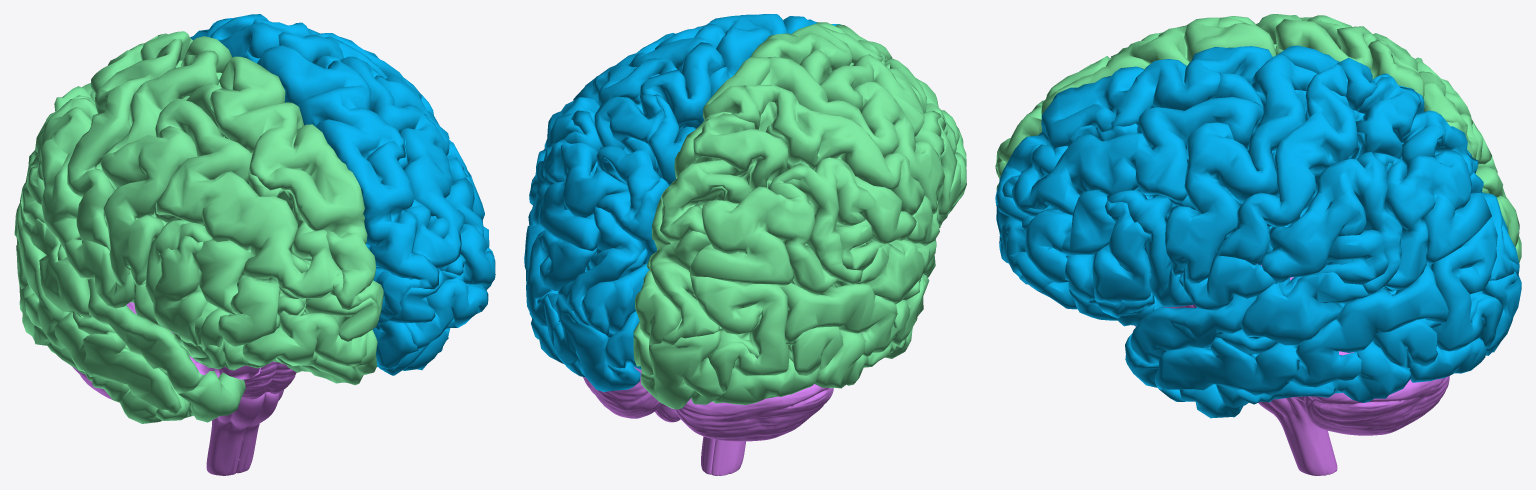
The model's file is brain_realistic.glb.
3 views of the same model, side by side, from view 1: azimuth 30°, elevation 25°; view 2: azimuth 150°, elevation 25°; view 3: azimuth 270°, elevation 25° (orthographic). The views are drawn at different scales.
Visible parts, largest first — view 1: Middle frontal gyrus_R, Superior frontal gyrus_R, Superior frontal gyrus_L, Precentral gyrus_R, Middle frontal gyrus_L, Middle temporal gyrus_R, Superior temporal gyrus (Lateral part)_R, Postcentral gyrus_R, Supramarginal gyrus_R, Orbital gyri (Frontomarginal gyrus and sulcus*)_R, Triangular part of inferior frontal gyrus_R, Inferior frontal sulcus_R (+28 smaller); view 2: Angular gyrus_R, Superior parietal lobule_R, Postcentral gyrus_R, Supramarginal gyrus_R, Lateral occipital gyrus (Middle occipital gyrus*)_R, Angular gyrus_L, Precentral gyrus_R, Middle temporal gyrus_R, Superior parietal lobule_L, Cerebellum_R, Occipital pole_R, Middle frontal gyrus_R (+31 smaller); view 3: Middle frontal gyrus_L, Precentral gyrus_L, Middle temporal gyrus_L, Superior frontal gyrus_L, Superior temporal gyrus (Lateral part)_L, Postcentral gyrus_L, Supramarginal gyrus_L, Angular gyrus_L, Inferior temporal gyrus_L, Superior frontal gyrus_R, Superior parietal lobule_L, Lateral occipital gyrus (Middle occipital gyrus*)_L (+26 smaller).
Boxes of the visible parts, box(x1,y1,x2,y2) form: Middle frontal gyrus_R: box(155, 98, 343, 346); Superior frontal gyrus_R: box(210, 56, 383, 318); Superior frontal gyrus_L: box(242, 45, 439, 330); Precentral gyrus_R: box(101, 50, 219, 286); Middle frontal gyrus_L: box(340, 56, 495, 285); Middle temporal gyrus_R: box(14, 203, 181, 415); Superior temporal gyrus (Lateral part)_R: box(23, 218, 204, 393); Postcentral gyrus_R: box(67, 39, 182, 250); Supramarginal gyrus_R: box(20, 97, 97, 248); Orbital gyri (Frontomarginal gyrus and sulcus*)_R: box(242, 303, 367, 366); Triangular part of inferior frontal gyrus_R: box(153, 235, 207, 346); Inferior frontal sulcus_R: box(153, 203, 252, 314); Angular gyrus_R: box(690, 163, 838, 294); Superior parietal lobule_R: box(660, 113, 788, 243); Postcentral gyrus_R: box(744, 85, 924, 215); Supramarginal gyrus_R: box(783, 157, 916, 284); Lateral occipital gyrus (Middle occipital gyrus*)_R: box(690, 275, 789, 392); Angular gyrus_L: box(531, 110, 628, 250); Precentral gyrus_R: box(760, 56, 944, 214); Middle temporal gyrus_R: box(780, 274, 929, 356); Superior parietal lobule_L: box(594, 94, 666, 229); Cerebellum_R: box(675, 384, 833, 441); Occipital pole_R: box(641, 330, 724, 409); Middle frontal gyrus_R: box(819, 54, 966, 166); Middle frontal gyrus_L: box(1002, 97, 1264, 283); Precentral gyrus_L: box(1165, 53, 1317, 283); Middle temporal gyrus_L: box(1155, 264, 1448, 395); Superior frontal gyrus_L: box(995, 46, 1272, 205); Superior temporal gyrus (Lateral part)_L: box(1130, 272, 1369, 365); Postcentral gyrus_L: box(1214, 63, 1357, 265); Supramarginal gyrus_L: box(1261, 152, 1402, 294); Angular gyrus_L: box(1372, 151, 1491, 291); Inferior temporal gyrus_L: box(1179, 318, 1441, 418); Superior frontal gyrus_R: box(995, 17, 1283, 179); Superior parietal lobule_L: box(1355, 76, 1478, 175); Lateral occipital gyrus (Middle occipital gyrus*)_L: box(1430, 216, 1503, 351).
Size of the model in its own units: 0.1452 by 0.1609 by 0.1769.
